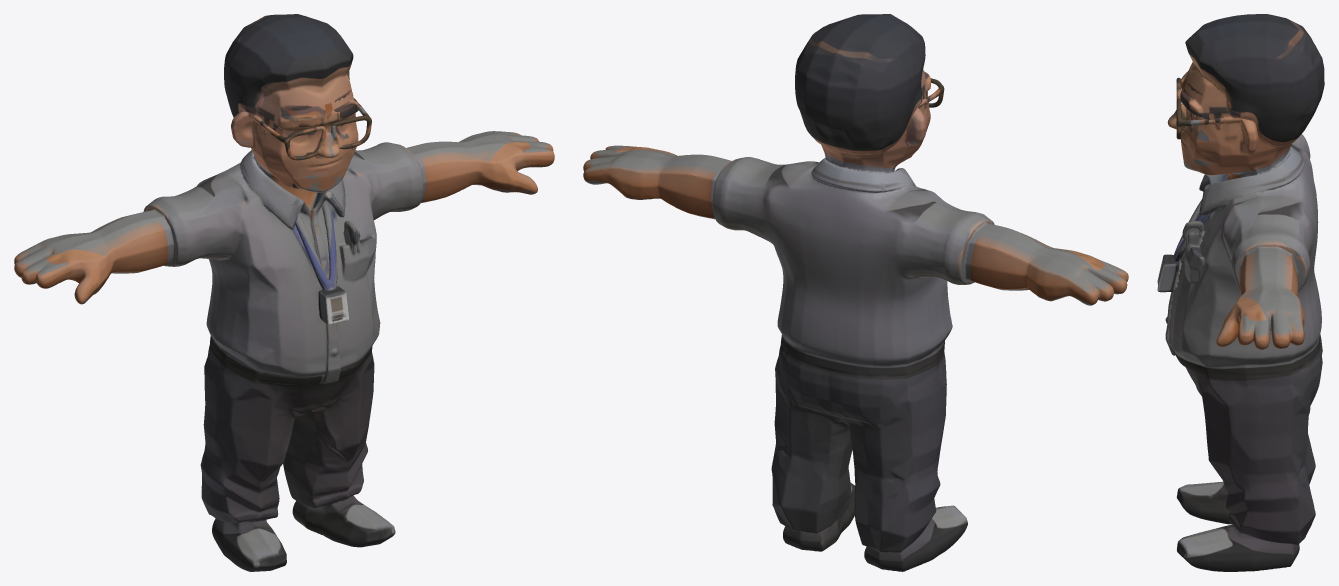
File: office_clean.glb
The picture shows the model from 3 angles, left to right: view 1: azimuth 30°, elevation 25°; view 2: azimuth 150°, elevation 25°; view 3: azimuth 270°, elevation 25°; orthographic projection.
Parts seen in each view (by area): view 1: tripo_node_a1d90855-be50-406d-a691-8188a178aa32; view 2: tripo_node_a1d90855-be50-406d-a691-8188a178aa32; view 3: tripo_node_a1d90855-be50-406d-a691-8188a178aa32.
Boxes of the visible parts, x1=… form: tripo_node_a1d90855-be50-406d-a691-8188a178aa32: x1=14, y1=14, x2=554, y2=571; tripo_node_a1d90855-be50-406d-a691-8188a178aa32: x1=583, y1=14, x2=1128, y2=571; tripo_node_a1d90855-be50-406d-a691-8188a178aa32: x1=1157, y1=14, x2=1324, y2=571.
Bounding box in the file's own units: 1.7 × 1.58 × 0.4626.
1 material, 1 textured.
